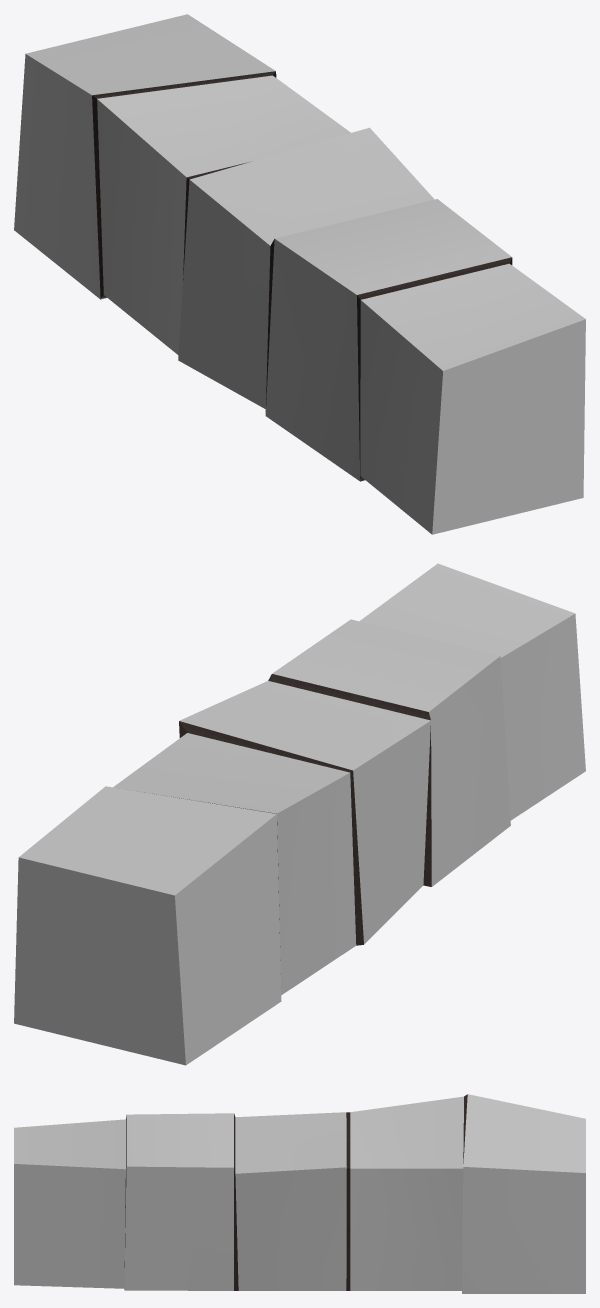
File: Stones.fbx
The picture shows the model from 3 angles, top to bottom: view 1: azimuth 30°, elevation 25°; view 2: azimuth 150°, elevation 25°; view 3: azimuth 270°, elevation 25°; orthographic projection. The views are drawn at different scales.
Visible parts, largest first — view 1: pCube5; view 2: pCube5; view 3: pCube5.
Boxes of the visible parts, x1,y1,x2,y2 form: pCube5: (14, 14, 585, 534); pCube5: (14, 563, 585, 1065); pCube5: (14, 1094, 585, 1293).
Size of the model in its own units: 4.06 by 4.09 by 15.29.
